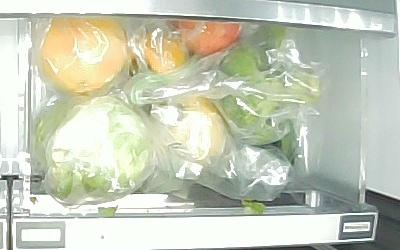apple_vinyl: (166, 20, 241, 57)
broccoli_vinyl: (218, 46, 321, 143)
grapefruit_vinyl: (40, 19, 128, 94)
lettuce_vinyl: (37, 95, 154, 202)
paprika_vinyl: (158, 95, 226, 160)
persimmon_vinyl: (140, 28, 188, 73)
